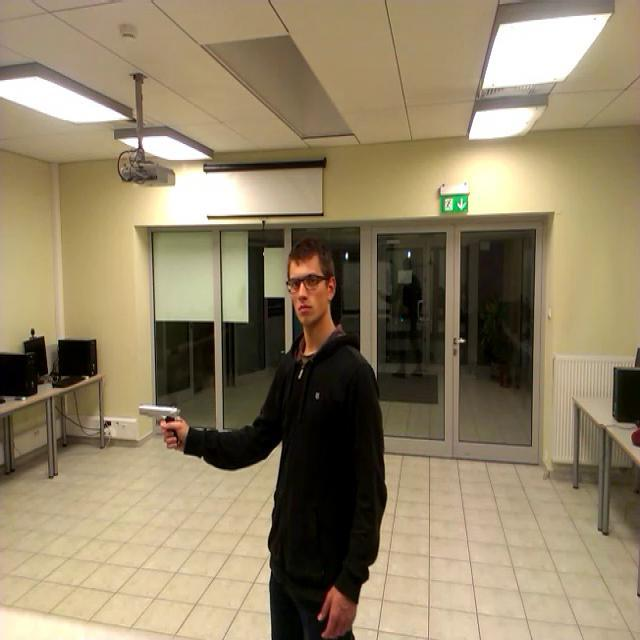Gun: (138, 403, 180, 444)
